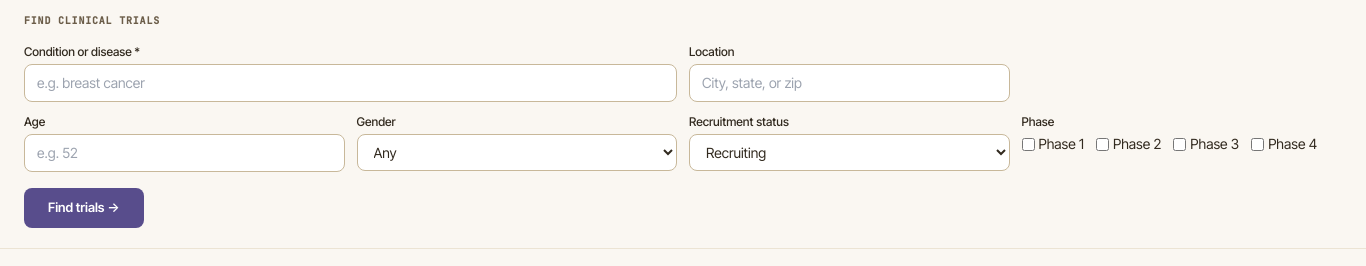
Test: SearchForm › shows radius selector when location is entered
The image size is (1366, 266).
Type "Brooklyn" into the field labelled "Location" at {"x": 849, "y": 83}, box x1=689 y1=64 x2=1010 y2=102
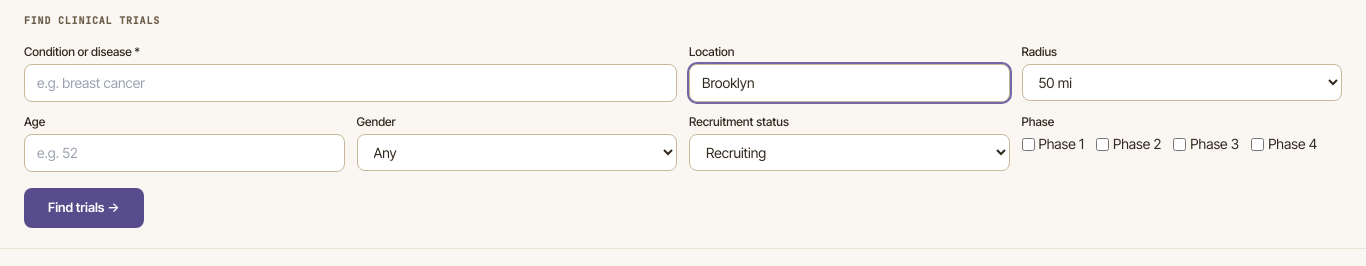
Check: the dropdown labelled "Radius" is shown, box x1=1022 y1=64 x2=1342 y2=101
